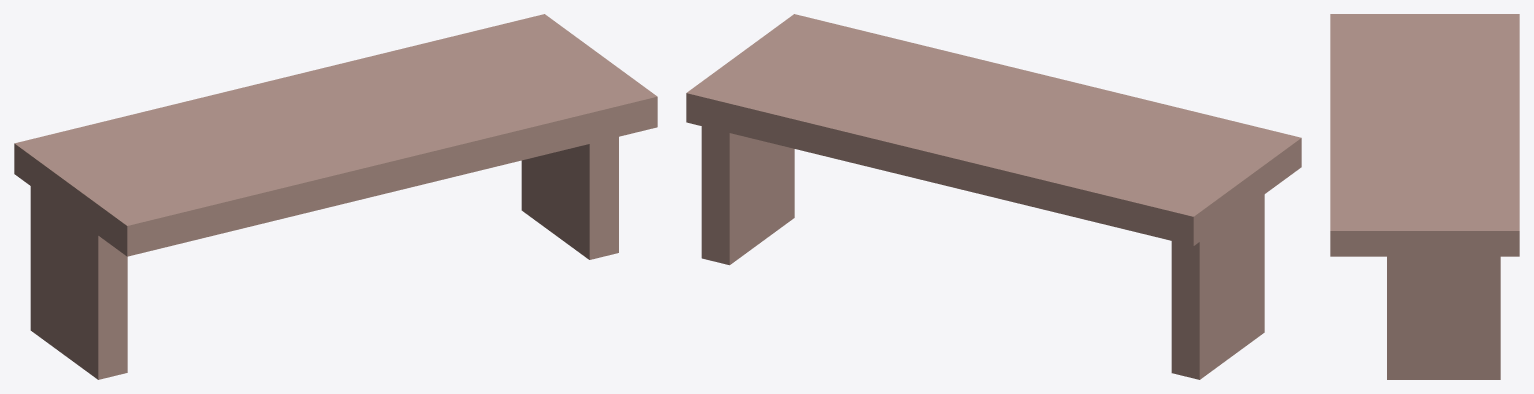
File: Desk.fbx
The picture shows the model from 3 angles, left to right: view 1: azimuth 30°, elevation 25°; view 2: azimuth 150°, elevation 25°; view 3: azimuth 270°, elevation 25°; orthographic projection. The views are drawn at different scales.
Parts seen in each view (by area): view 1: Desk; view 2: Desk; view 3: Desk.
Boxes of the visible parts, <box> form: Desk: <box>14,14,657,379</box>; Desk: <box>686,14,1301,379</box>; Desk: <box>1330,14,1519,379</box>.
Size of the model in its own units: 2.71 by 0.8793 by 1.
